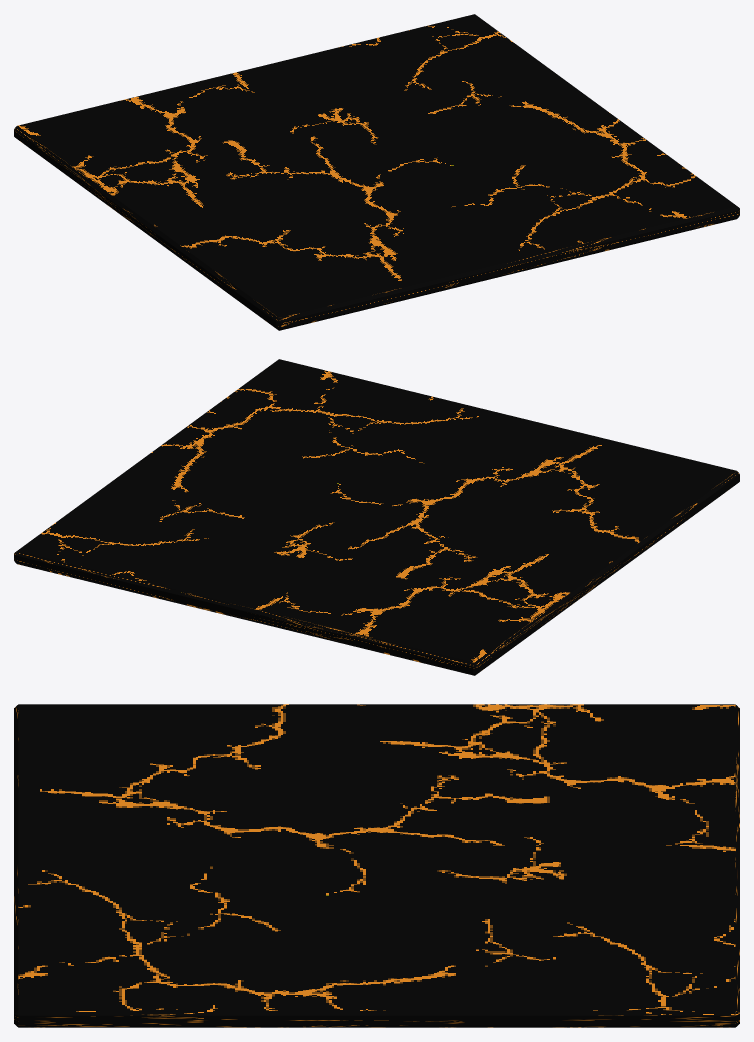
3 views of the same model, one above another, from view 1: azimuth 30°, elevation 25°; view 2: azimuth 150°, elevation 25°; view 3: azimuth 270°, elevation 25° (orthographic). The views are drawn at different scales.
Parts seen in each view (by area): view 1: Cube.189; view 2: Cube.189; view 3: Cube.189.
Boxes of the visible parts, bbox=[...] form: Cube.189: bbox=[14, 14, 739, 330]; Cube.189: bbox=[14, 359, 739, 675]; Cube.189: bbox=[14, 704, 739, 1027].
Bounding box in the file's own units: 146 × 3.91 × 145.
Materials: 1 (1 with a texture image).
